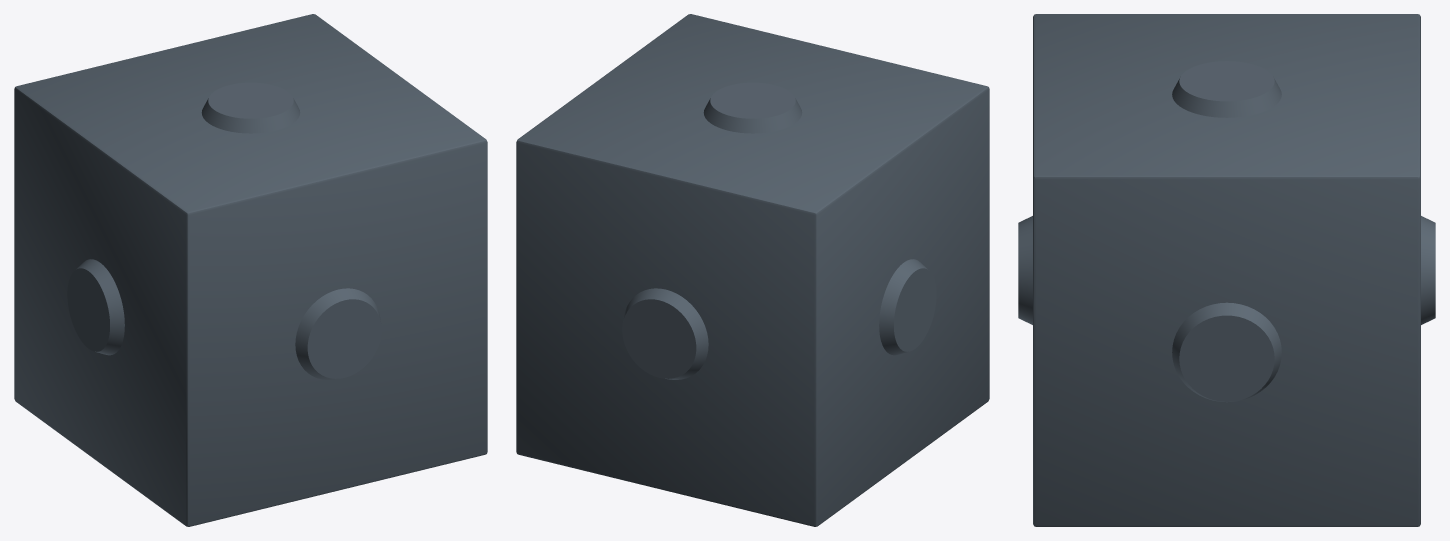
File: mesh_crate.glb
3 views of the same model, side by side, from view 1: azimuth 30°, elevation 25°; view 2: azimuth 150°, elevation 25°; view 3: azimuth 270°, elevation 25° (orthographic). The views are drawn at different scales.
Visible parts, largest first — view 1: mesh_crate; view 2: mesh_crate; view 3: mesh_crate.
Boxes of the visible parts, x1=… form: mesh_crate: x1=14, y1=14, x2=487, y2=526; mesh_crate: x1=516, y1=14, x2=989, y2=526; mesh_crate: x1=1018, y1=14, x2=1435, y2=526.
Size of the model in its own units: 1.12 by 1.12 by 1.12.
